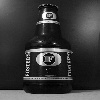beer: (22, 3, 74, 96)
